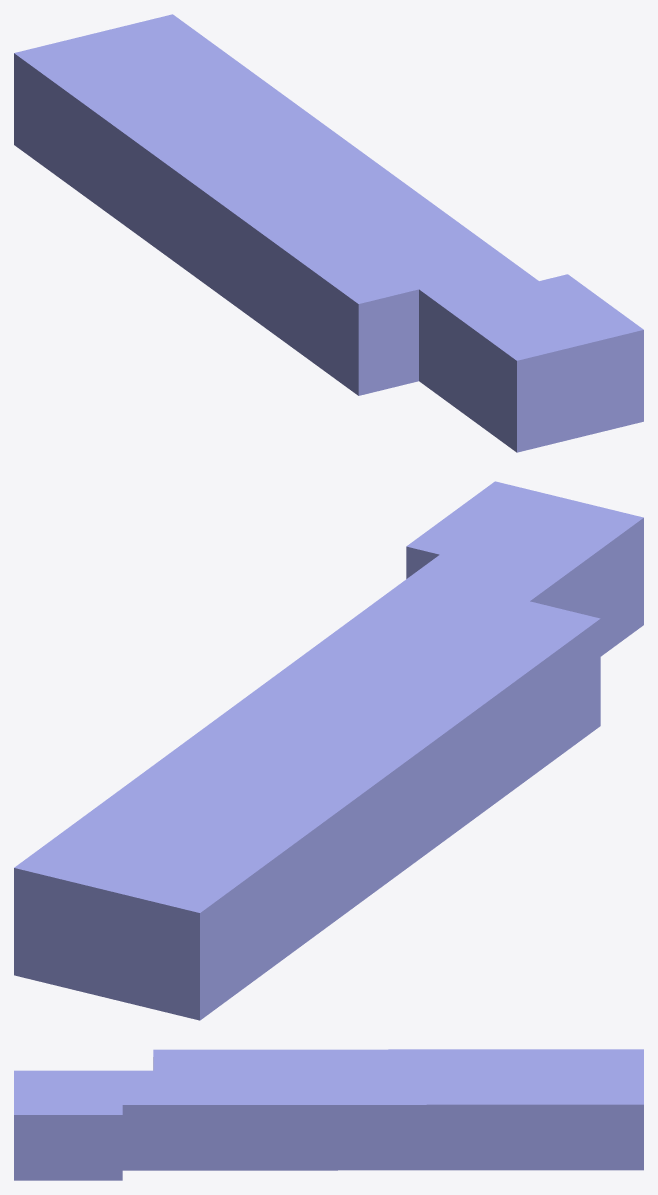
Rendered from 3CampusCasing.glb.
3 views of the same model, one above another, from view 1: azimuth 30°, elevation 25°; view 2: azimuth 150°, elevation 25°; view 3: azimuth 270°, elevation 25° (orthographic). The views are drawn at different scales.
Visible parts, largest first — view 1: Cube.012; view 2: Cube.012; view 3: Cube.012.
Boxes of the visible parts, box(x1,y1,x2,y2) form: Cube.012: box(14, 14, 643, 452); Cube.012: box(14, 481, 643, 1020); Cube.012: box(14, 1049, 643, 1180).
Bounding box in the file's own units: 0.8997 × 0.4179 × 3.64.
